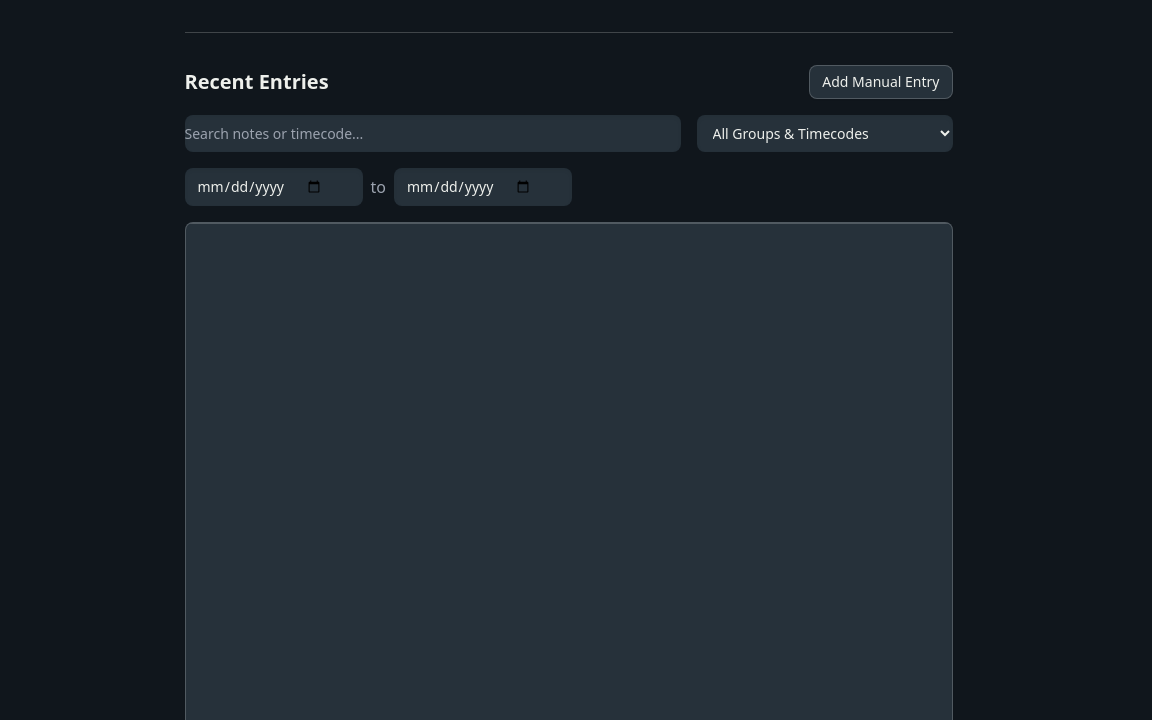
a flat fee carrying tracked time is disclosed wherever its hours go missing › entry list: the rows no longer out-total the figure beneath them in silence
Note: A filter has to be active before the list offers its bulk total.
Type "a" into the field with placeholder "Search notes or timecode..." at (432, 134), box [184,115,680,152]
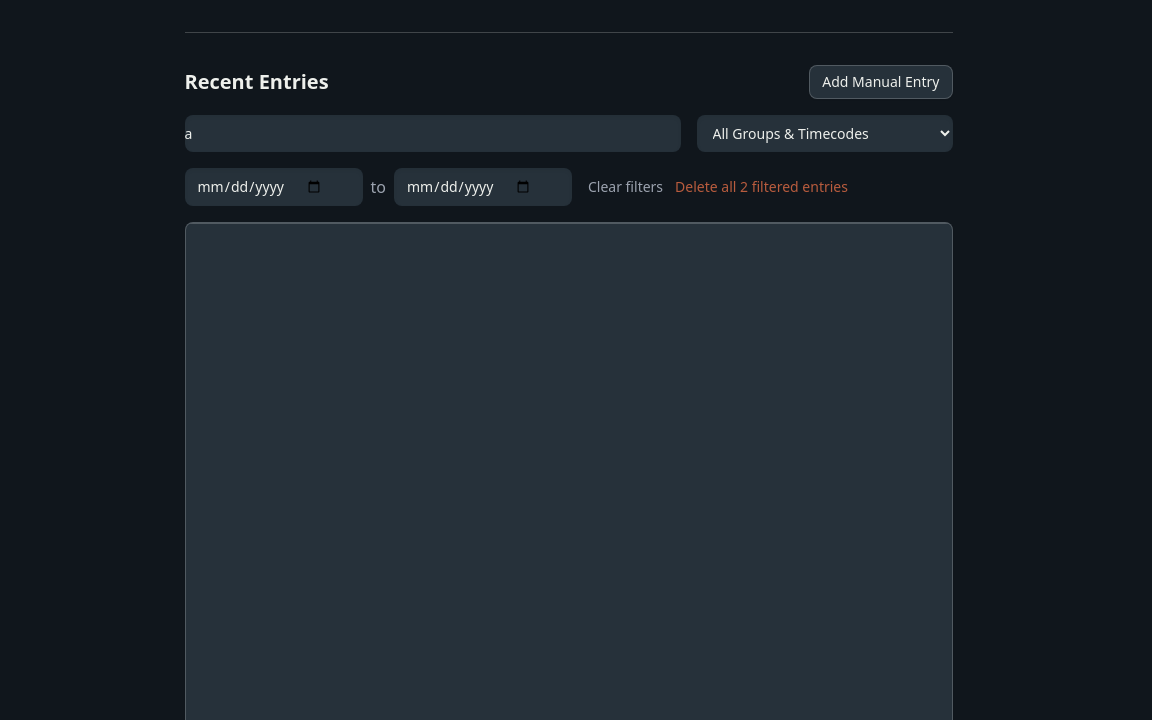
Click the button "Delete all 2 filtered entries" at (762, 187), box [675,177,848,197]
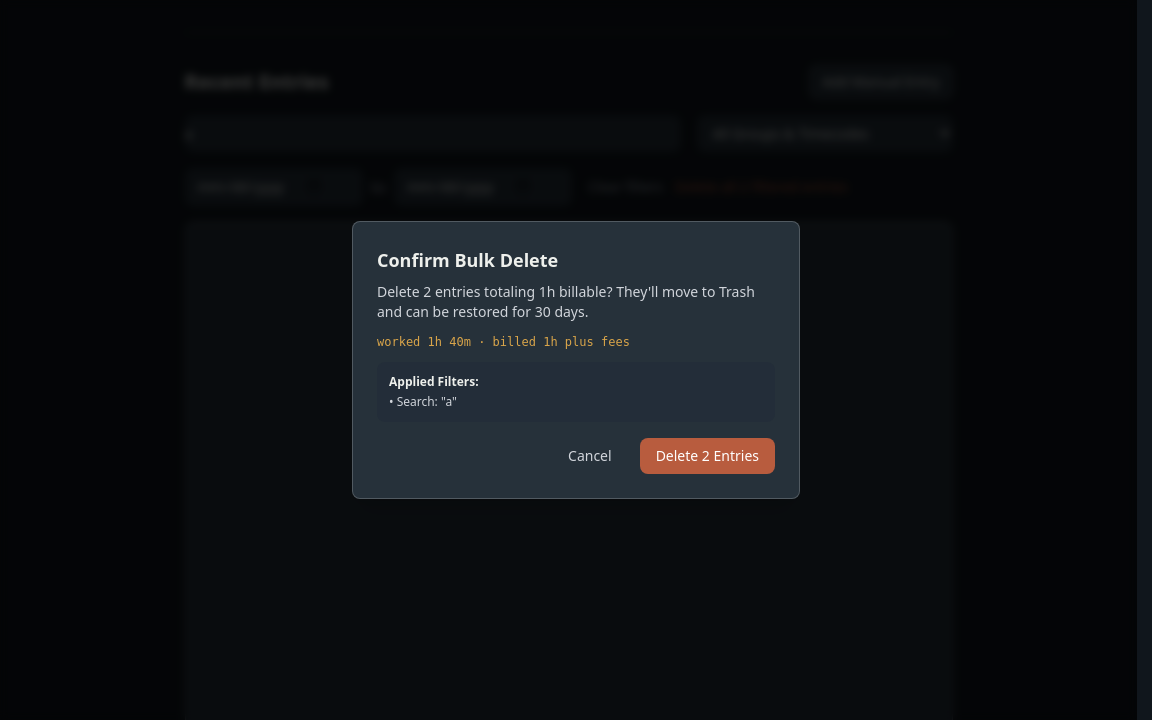
Expected: the text "totaling 1h billable" is shown, [377,282,775,322]
Expected: the text "worked 1h 40m · billed 1h plus fees" is shown, [377,335,630,349]
